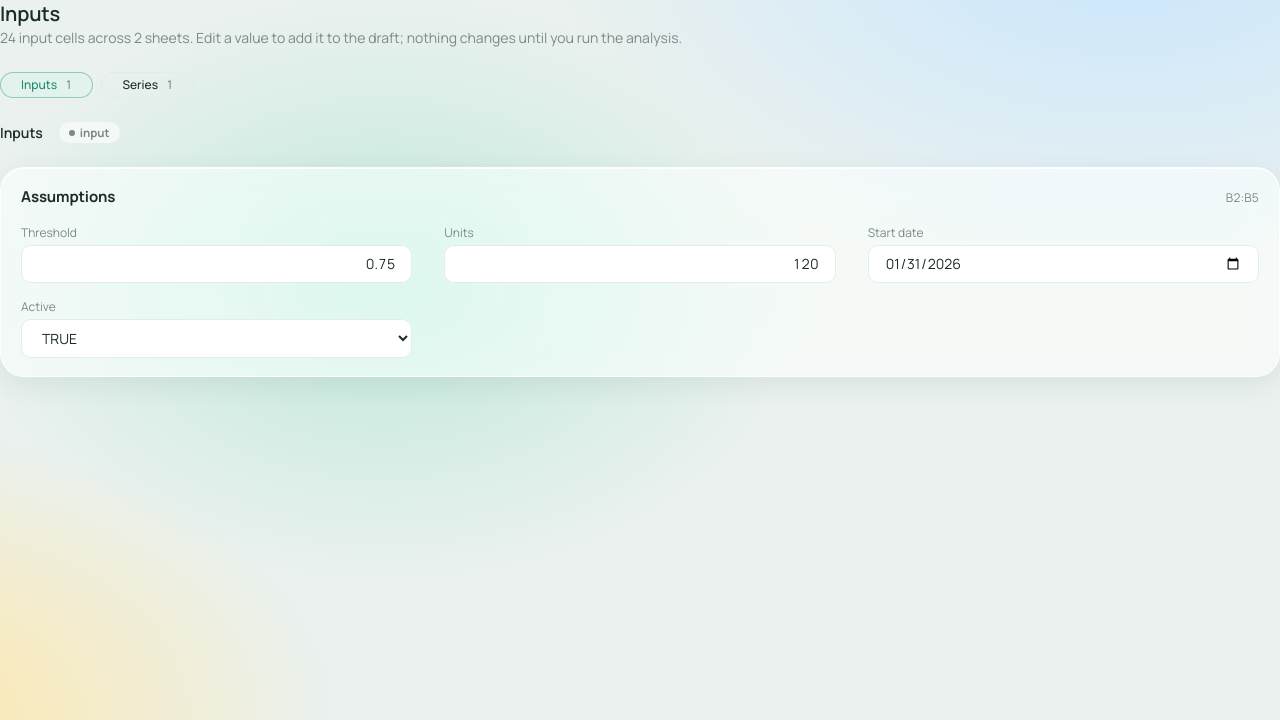
Test: InputsPage › accumulates edits into the draft bar and runs them
Replace the text in the field labelled "Units" with "200" at [640, 264], box [444,245,836,283]
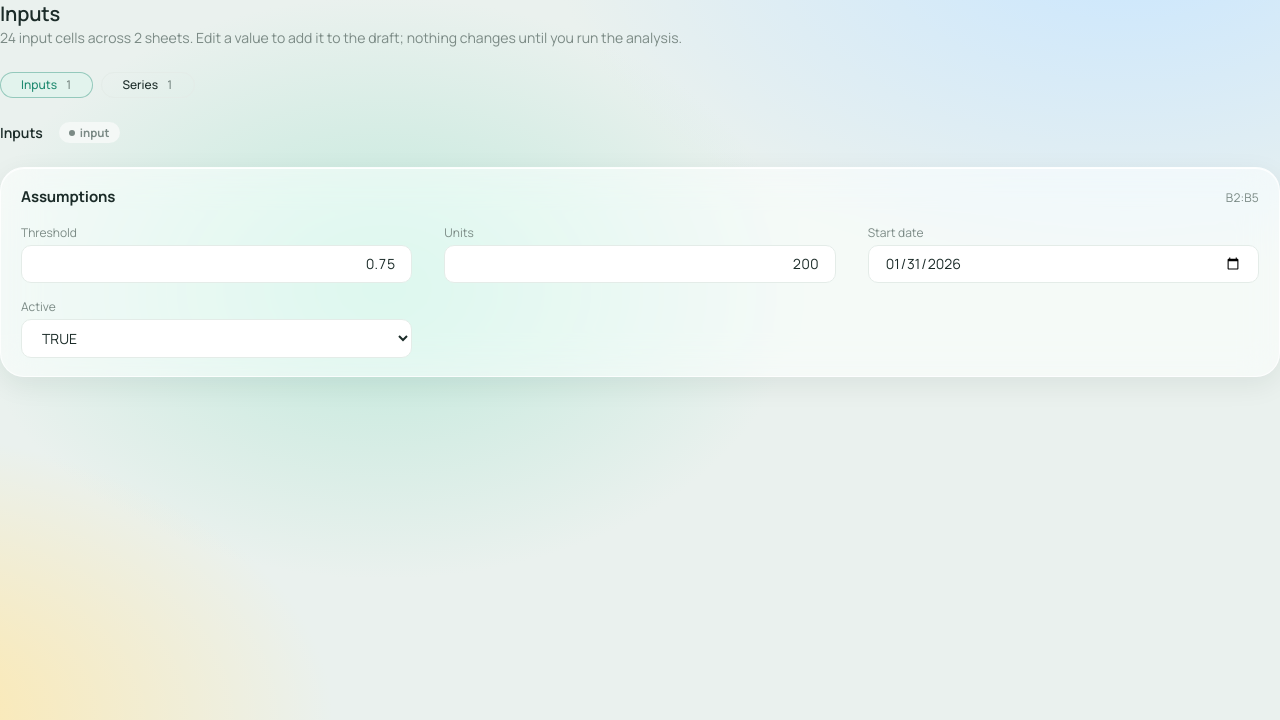
Leave the field labelled "Units", box [444,245,836,283]
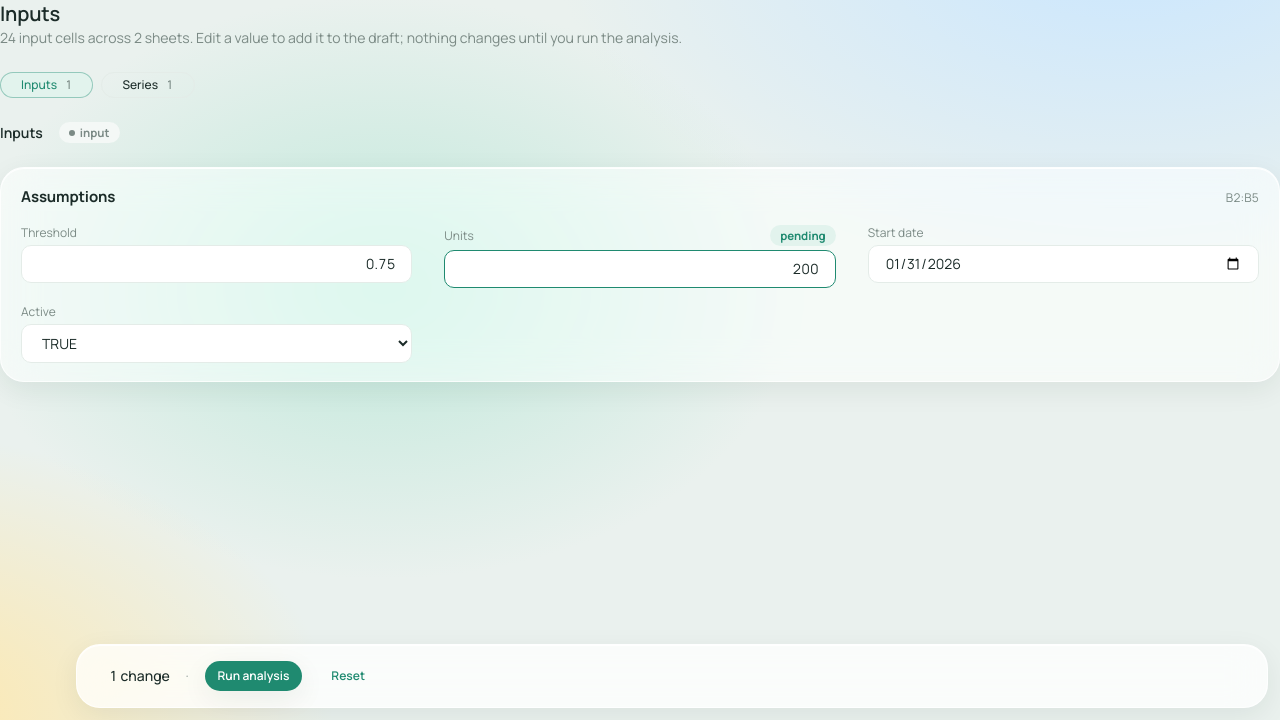
Check: the element named "Overrides" shows "1 change", box [76,644,1268,708]
Check: the text "pending" is shown, box [770,225,836,246]
Replace the text in the field labelled "Units" with "abc" at [640, 269], box [444,250,836,288]
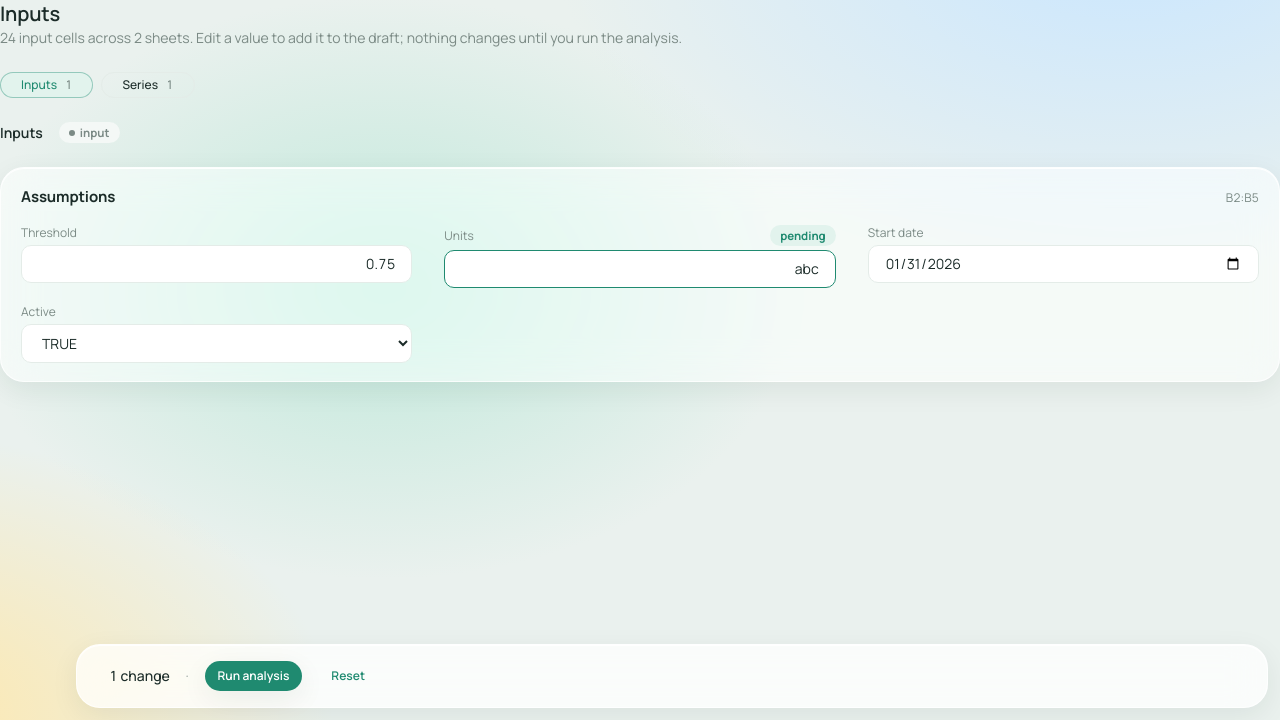
Leave the field labelled "Units", box [444,250,836,288]
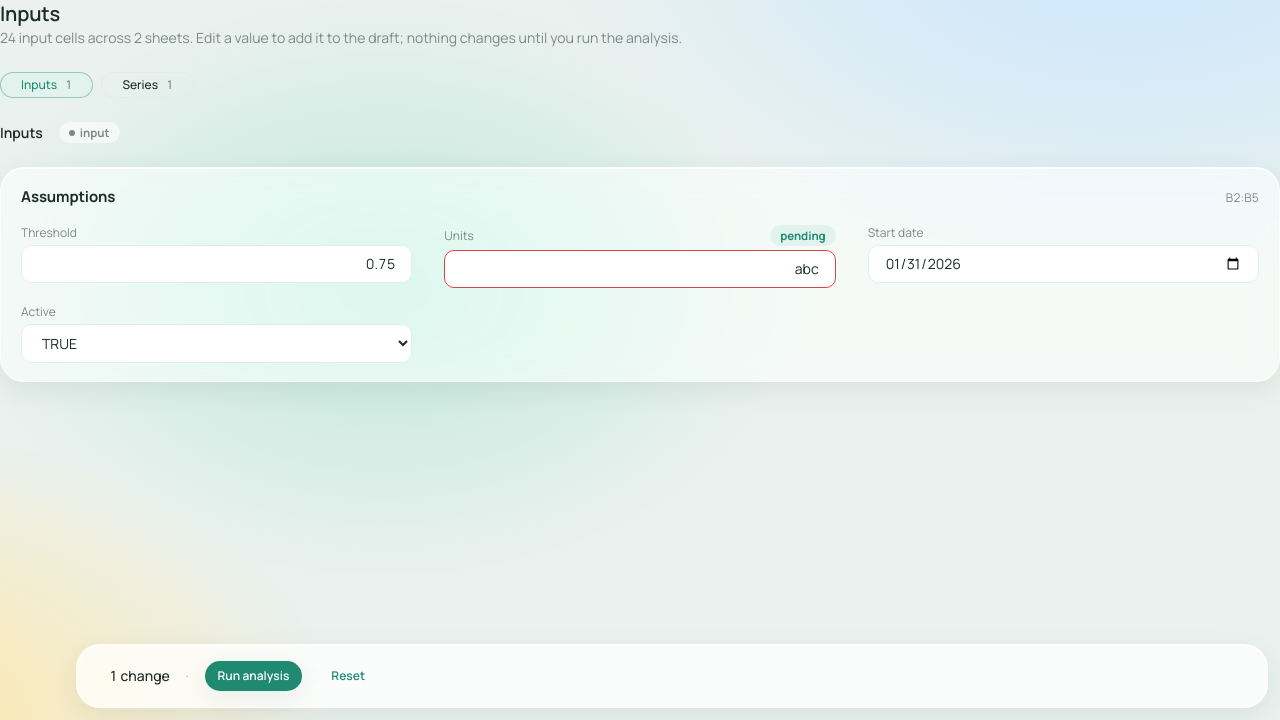
Check: the element named "Overrides" shows "1 change", box [76,644,1268,708]
Click the button "Run analysis".
click(253, 676)  # box [204,661,302,691]
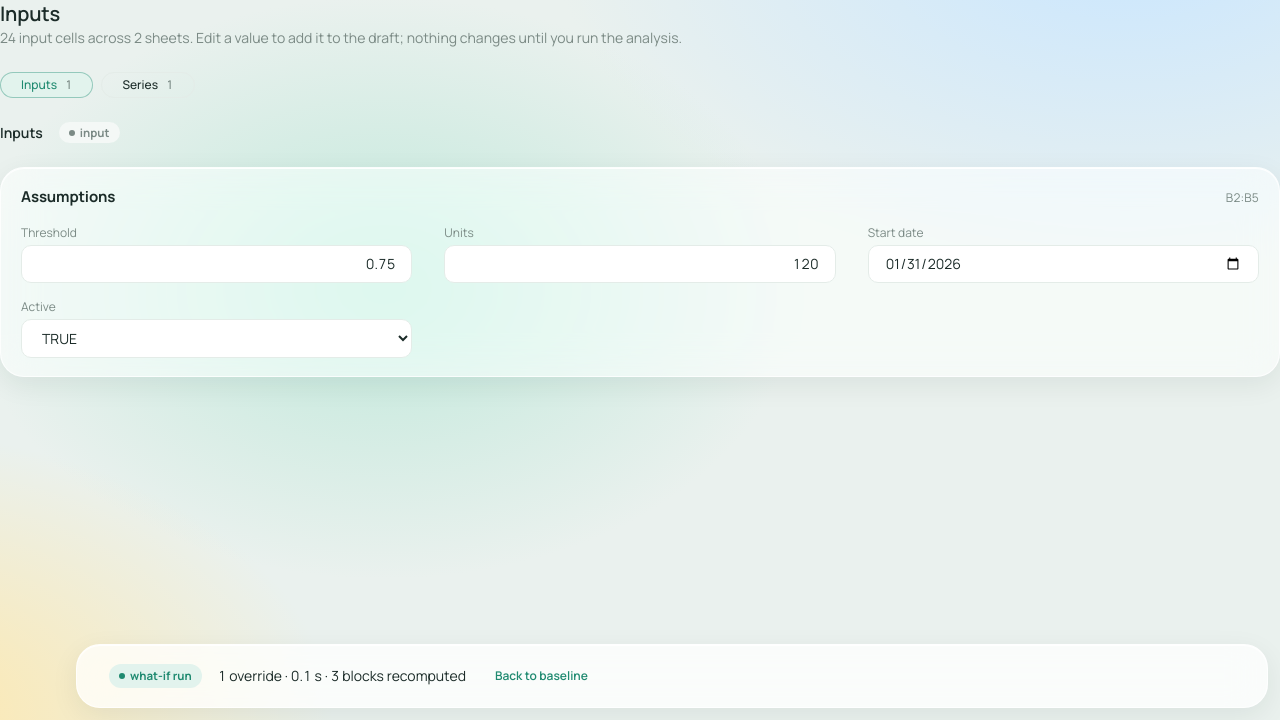
Check: the text "what-if run" is shown, box [109,664,202,688]
Click the button "Back to baseline".
click(541, 676)  # box [482,661,601,691]
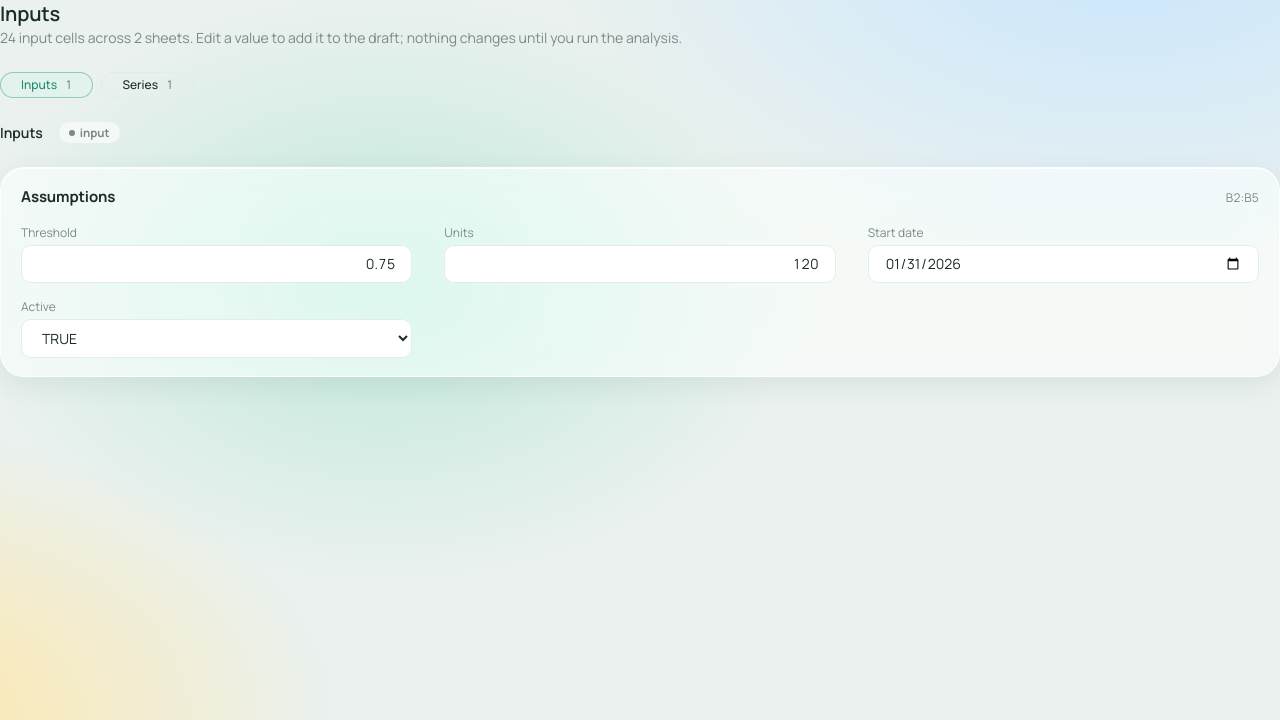
Check: the element "Overrides" is gone
